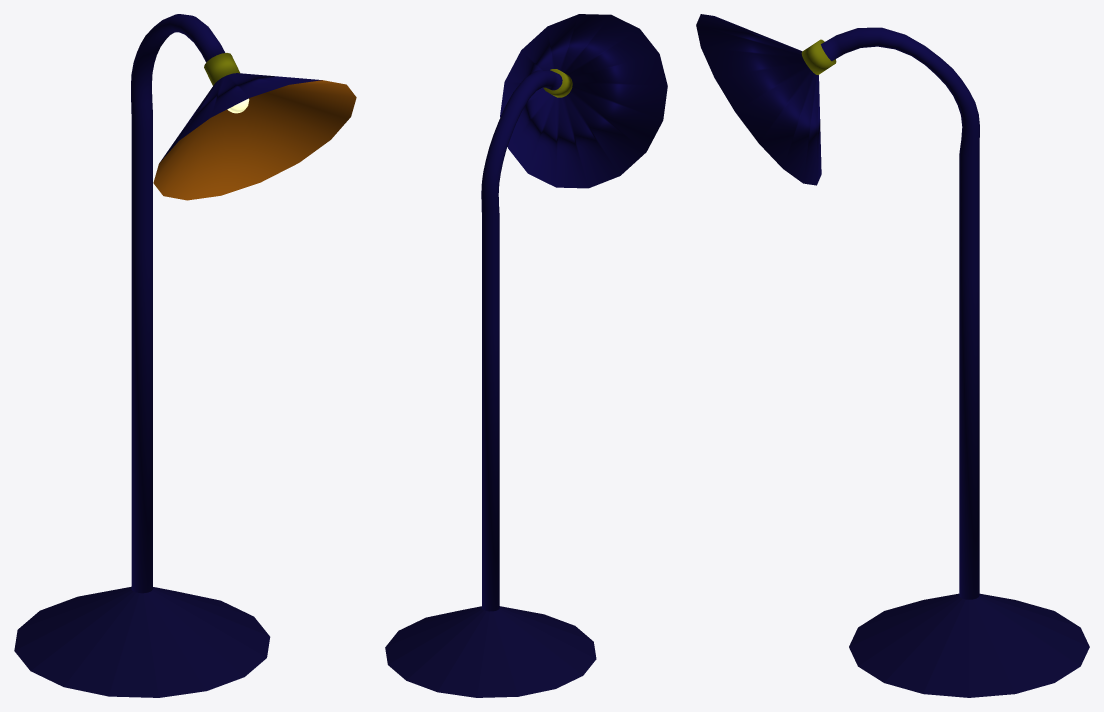
File: lamp.glb
3 views of the same model, side by side, from view 1: azimuth 30°, elevation 25°; view 2: azimuth 150°, elevation 25°; view 3: azimuth 270°, elevation 25° (orthographic). The views are drawn at different scales.
Visible parts, largest first — view 1: Cylinder, Cone; view 2: Cylinder, Cone; view 3: Cylinder, Cone.
Part boxes in pixels (x1,y1,x2,y2): Cylinder: (131,14,356,593); Cone: (14,586,270,697); Cylinder: (481,14,667,611); Cone: (385,606,596,697); Cylinder: (696,14,979,599); Cone: (849,593,1089,697).
Bounding box in the file's own units: 0.5935 × 1.69 × 0.9695.
